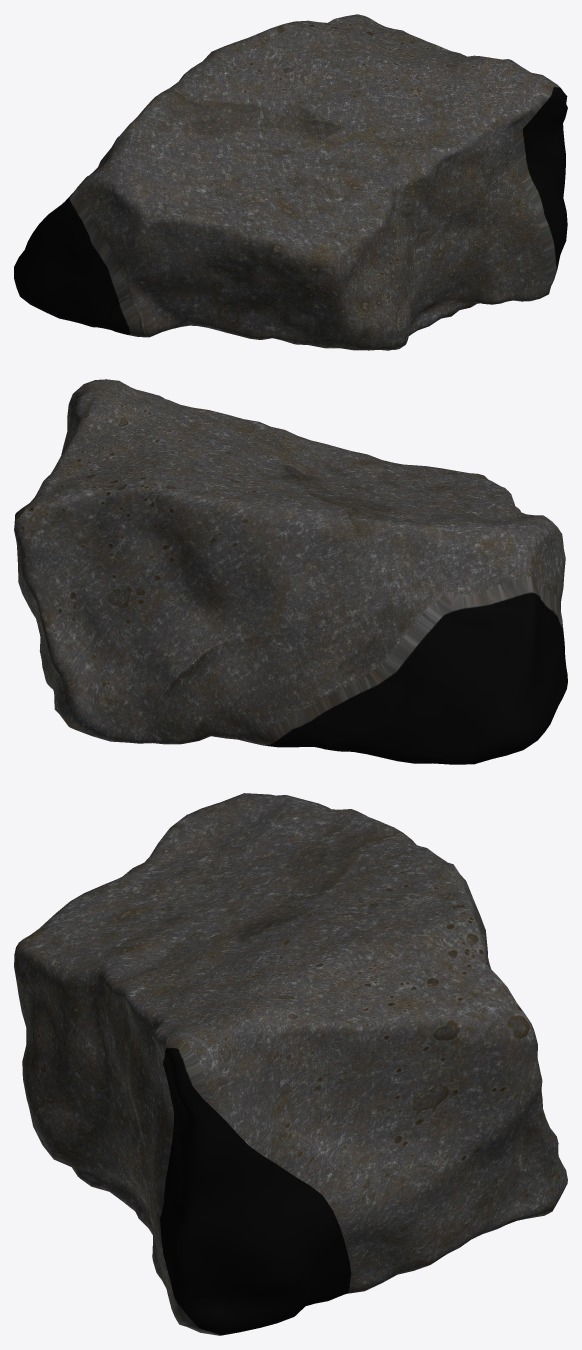
Rendered from set2_rock_16.fbx.
The picture shows the model from 3 angles, top to bottom: view 1: azimuth 30°, elevation 25°; view 2: azimuth 150°, elevation 25°; view 3: azimuth 270°, elevation 25°; orthographic projection. The views are drawn at different scales.
Visible parts, largest first — view 1: set2_rock_16; view 2: set2_rock_16; view 3: set2_rock_16.
Part boxes in pixels (bbox=[...]): set2_rock_16: bbox=[14, 14, 567, 350]; set2_rock_16: bbox=[14, 379, 567, 764]; set2_rock_16: bbox=[14, 793, 567, 1335].
Size of the model in its own units: 25.97 by 12.45 by 19.28.
Materials: 1 (1 with a texture image).
